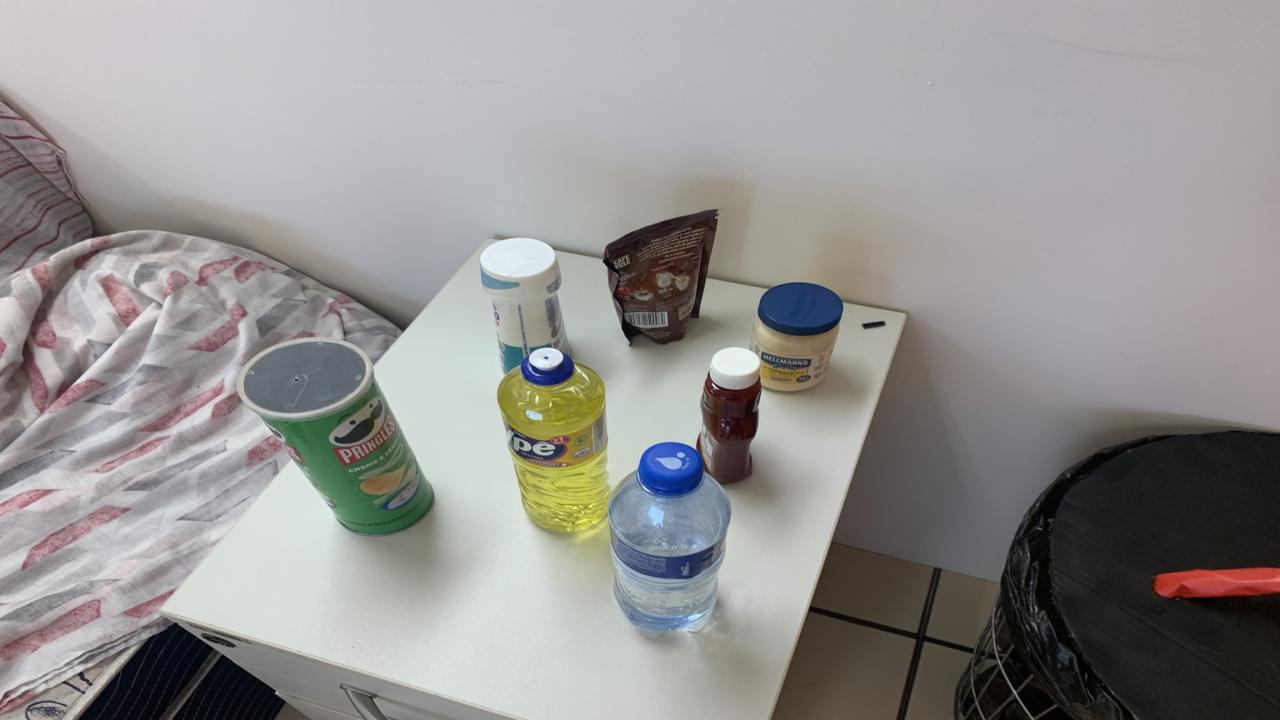Cleaner-Cleanup_Items: (480, 238, 570, 373)
Coffee-Pantry_Items: (602, 210, 718, 343)
Detergent-Cleanup_Items: (498, 347, 610, 531)
Ketchup-Pantry_Items: (698, 347, 760, 484)
Mayonnaise-Pantry_Items: (750, 283, 842, 392)
Pringles-Snacks: (238, 338, 435, 534)
Water_Bottle-Drinks: (608, 442, 730, 632)
